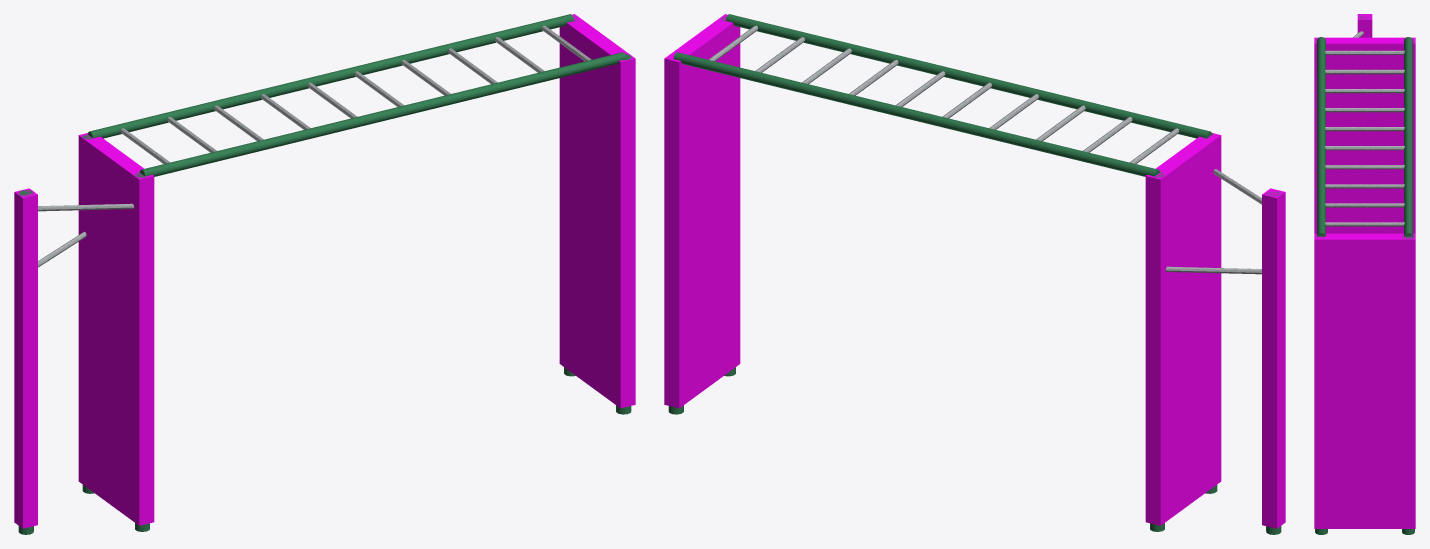
Rendered from EN_Yard_SportsFrame.fbx.
3 views of the same model, side by side, from view 1: azimuth 30°, elevation 25°; view 2: azimuth 150°, elevation 25°; view 3: azimuth 270°, elevation 25° (orthographic). The views are drawn at different scales.
Visible parts, largest first — view 1: COL_Frame, EN_Yard_SportsFrame_Mesh; view 2: COL_Frame, EN_Yard_SportsFrame_Mesh; view 3: COL_Frame, EN_Yard_SportsFrame_Mesh.
Boxes of the visible parts, x1,y1,x2,y2 form: COL_Frame: [14, 14, 635, 528]; EN_Yard_SportsFrame_Mesh: [18, 14, 631, 534]; COL_Frame: [664, 14, 1285, 528]; EN_Yard_SportsFrame_Mesh: [668, 14, 1281, 534]; COL_Frame: [1314, 14, 1415, 528]; EN_Yard_SportsFrame_Mesh: [1315, 14, 1414, 534].
Size of the model in its own units: 3.9 by 2.28 by 0.7.
